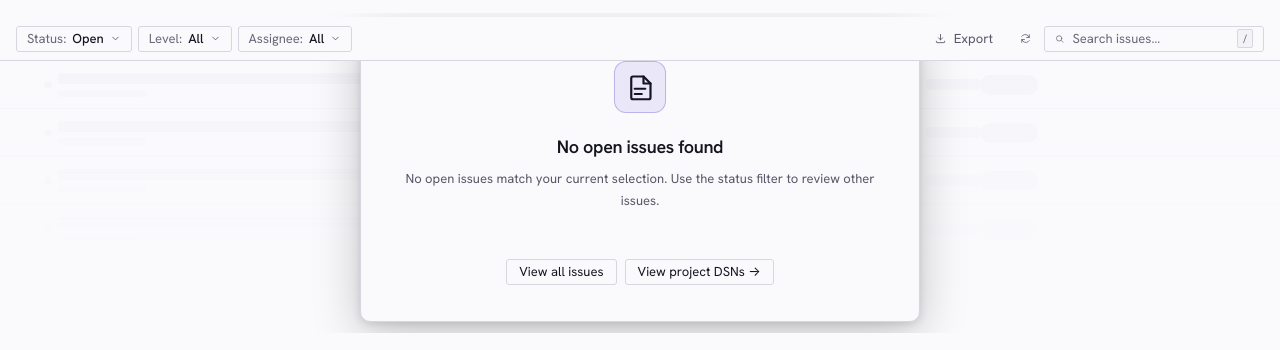
Test: IssueListView › noOpenIssues empty state actions › clicking "View all issues" transitions out of noOpenIssues state
Click the button "View all issues": click(561, 272) [506, 259, 617, 285]
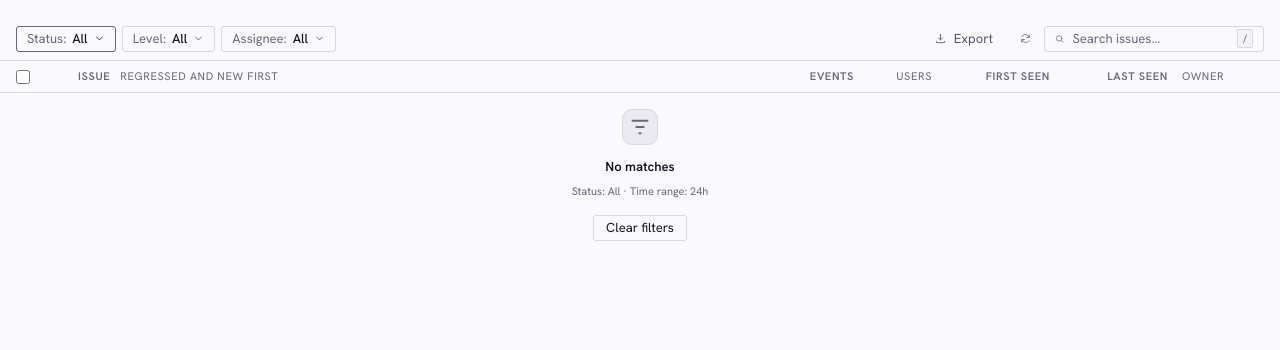
Result: the text "No open issues" is gone
